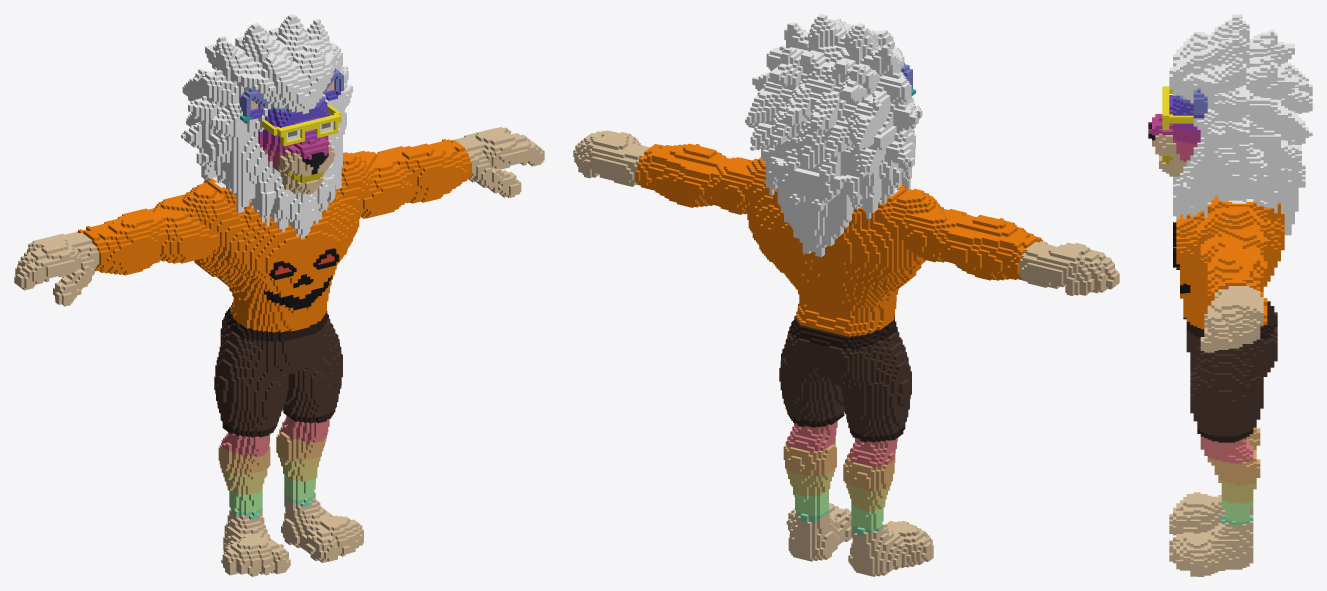
Rendered from 357-CYWSSpPm.glb.
The picture shows the model from 3 angles, left to right: view 1: azimuth 30°, elevation 25°; view 2: azimuth 150°, elevation 25°; view 3: azimuth 270°, elevation 25°; orthographic projection. The views are drawn at different scales.
Parts seen in each view (by area): view 1: gold_smile; view 2: gold_smile; view 3: gold_smile.
Part boxes in pixels (x1,y1,x2,y2): gold_smile: (14, 14, 544, 576); gold_smile: (573, 14, 1119, 576); gold_smile: (1148, 14, 1312, 576).
Size of the model in its own units: 17.2 by 16.5 by 4.7.
6 materials, 6 textured.
